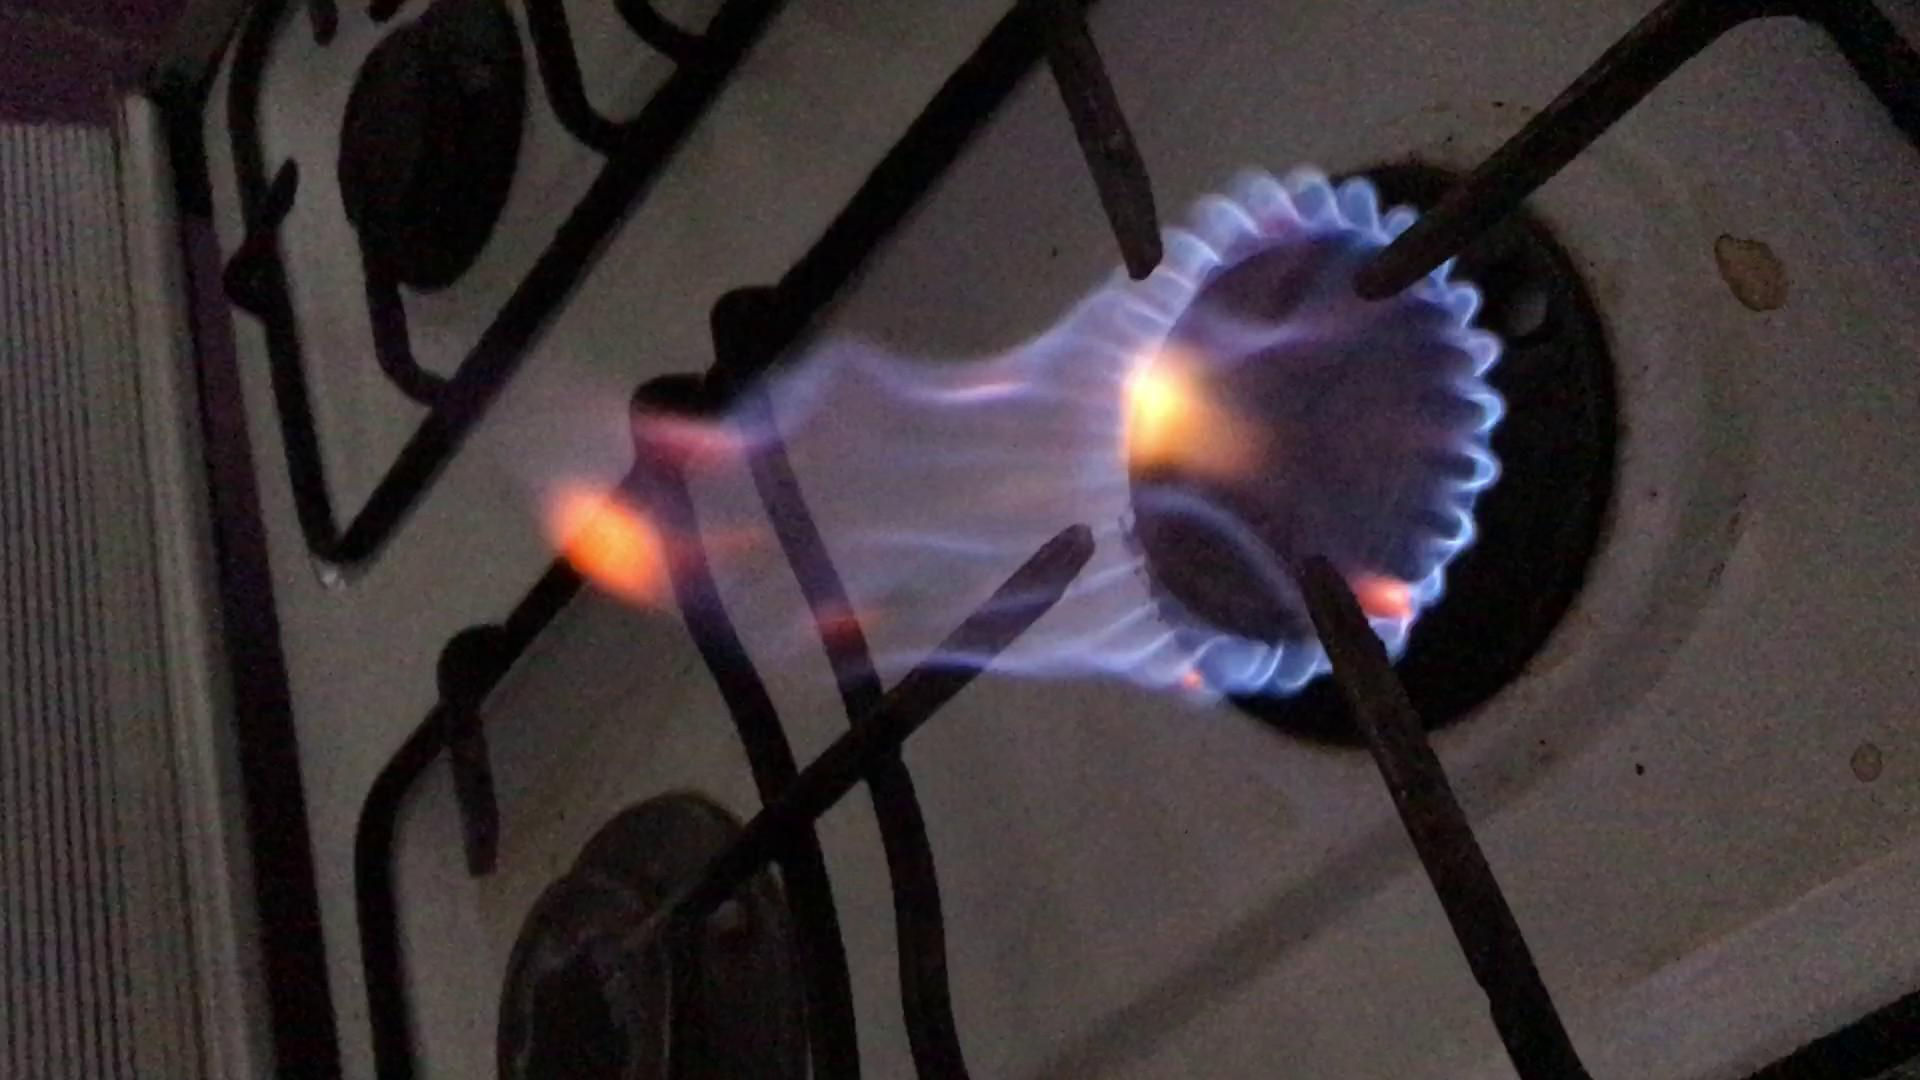fire: (462, 207, 1536, 708)
